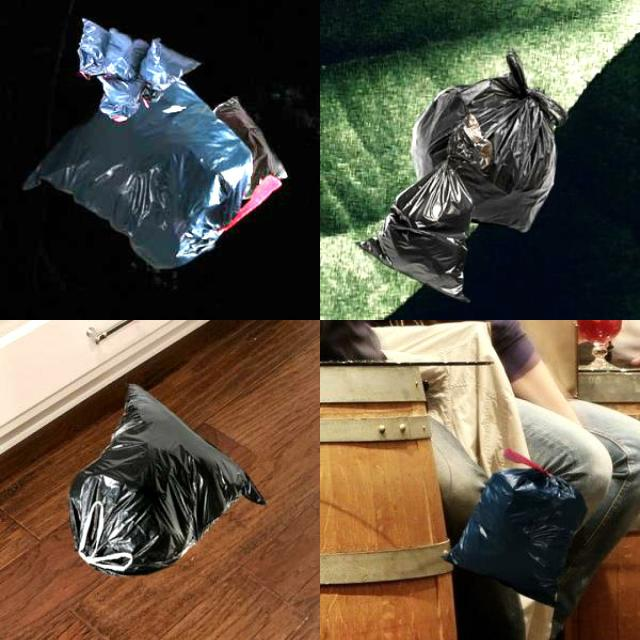Single-layer Plastic: (24, 19, 286, 269), (69, 384, 265, 574), (411, 51, 566, 231), (359, 114, 492, 300), (445, 448, 586, 605)
